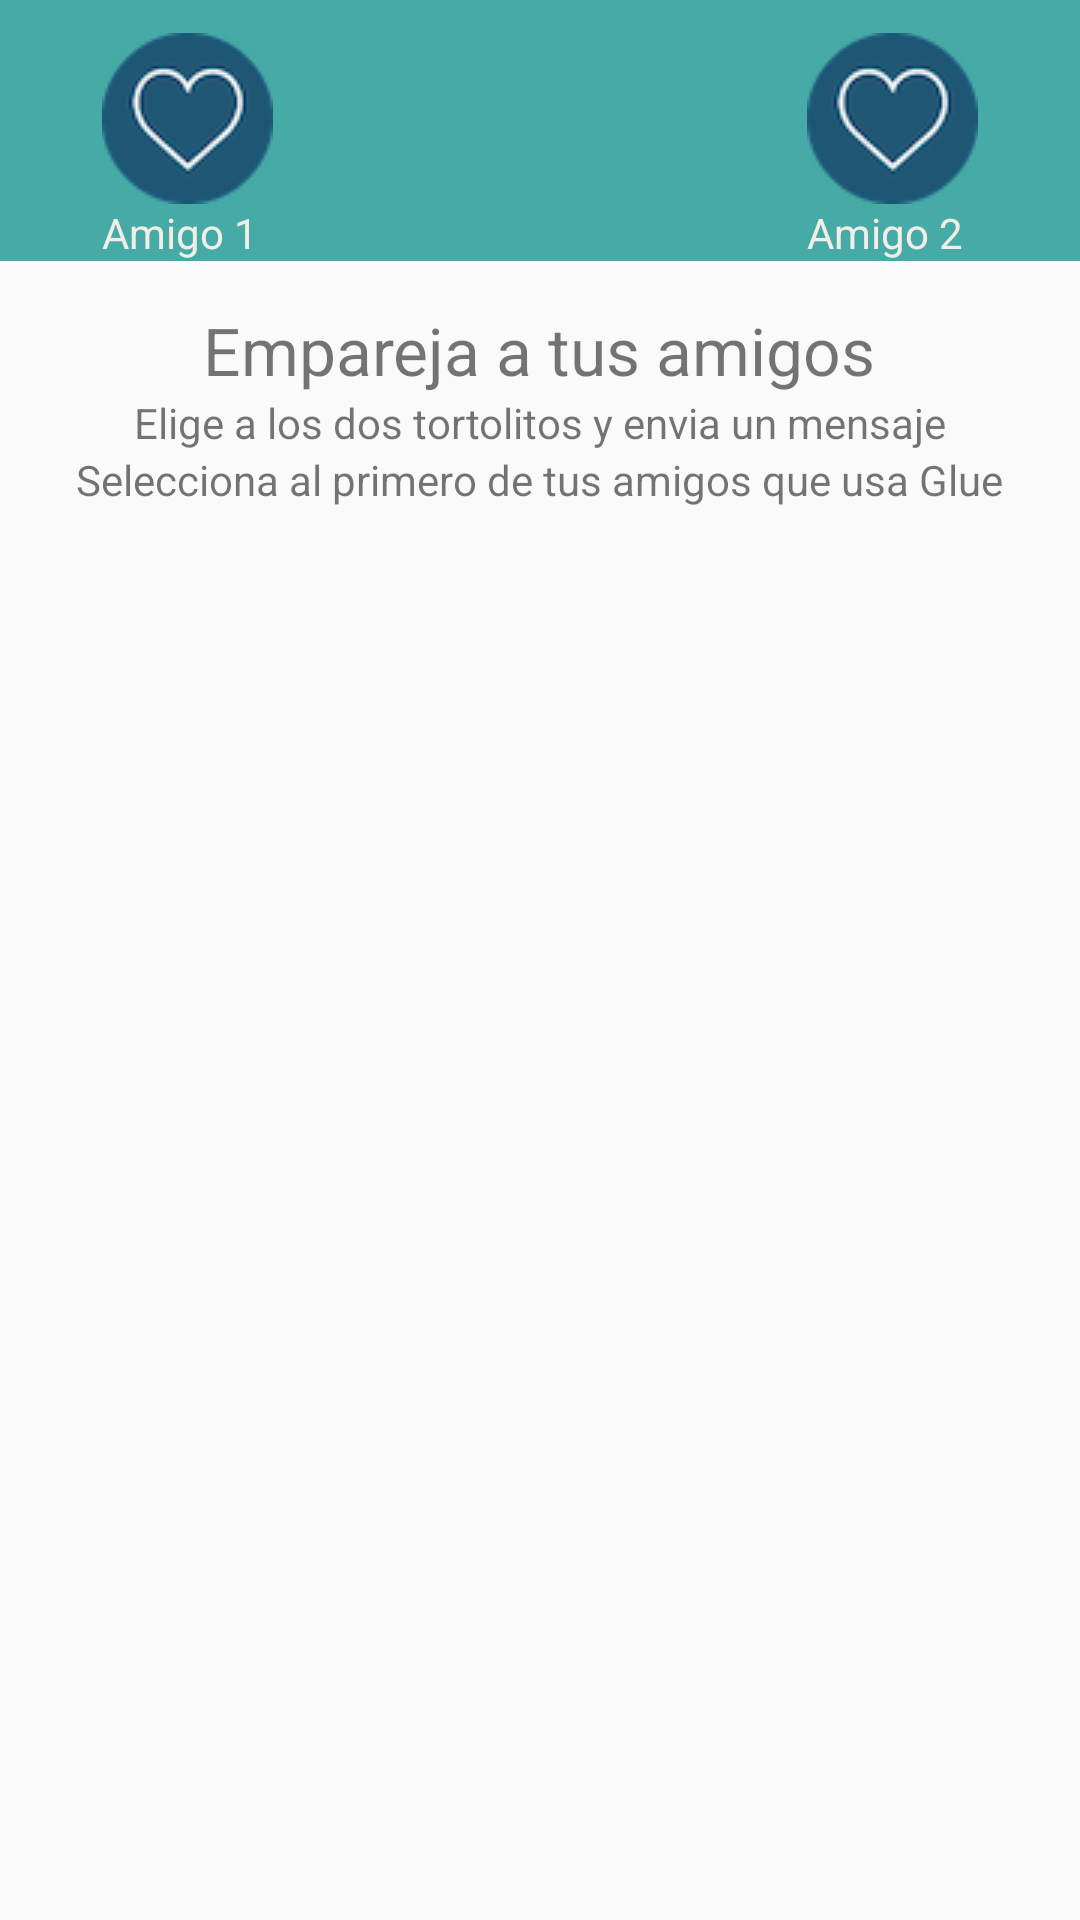

Named icons in this screenshot (1080x1920) and their bounding boxes, (x1=x1, y1=y1, x2=x2, y2=y2):
cambiar corazon: (x1=102, y1=33, x2=273, y2=204), (x1=807, y1=33, x2=978, y2=204)
